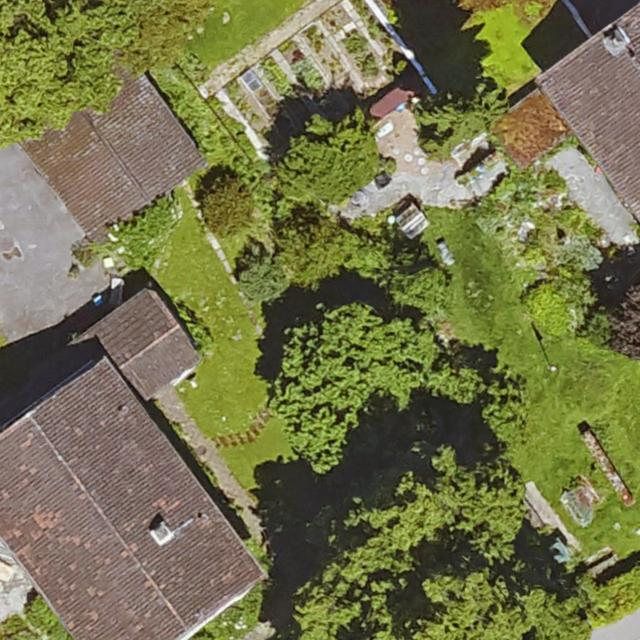tree: (292, 457, 596, 640), (0, 0, 212, 133), (275, 302, 434, 463), (275, 114, 386, 205), (413, 90, 505, 158), (609, 270, 640, 364)
